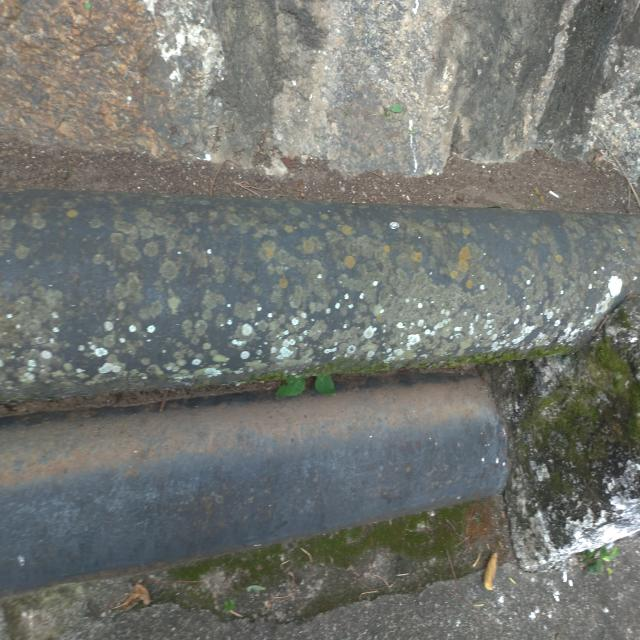gas: (6, 194, 635, 402), (1, 382, 501, 590)
